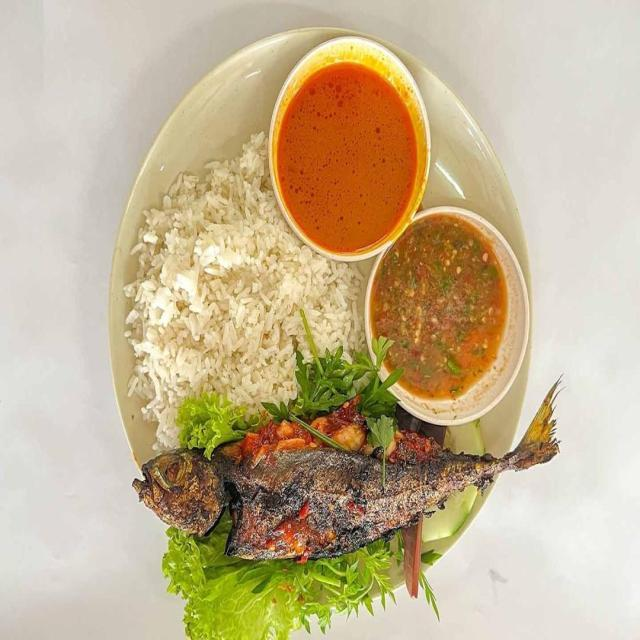Fish: (131, 371, 561, 559)
Plate: (110, 28, 374, 465)
Rice: (125, 133, 364, 450)
Vegetables: (120, 329, 483, 640)
